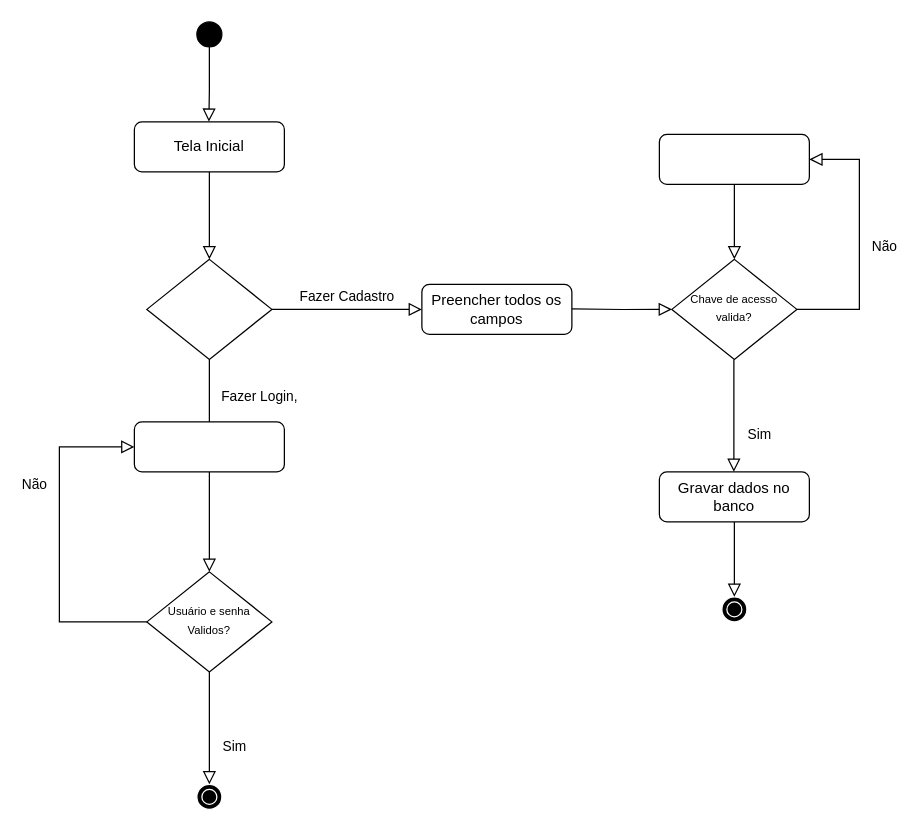
The diagram is 918 pixels wide and 831 high, and some of its shapes have lost their labels. The centre of each missing label's shape, as x and y in pixels:
"Inserir chave de acesso?" goes at point (733, 158).
"Inserir usuário e senha" goes at point (208, 446).
